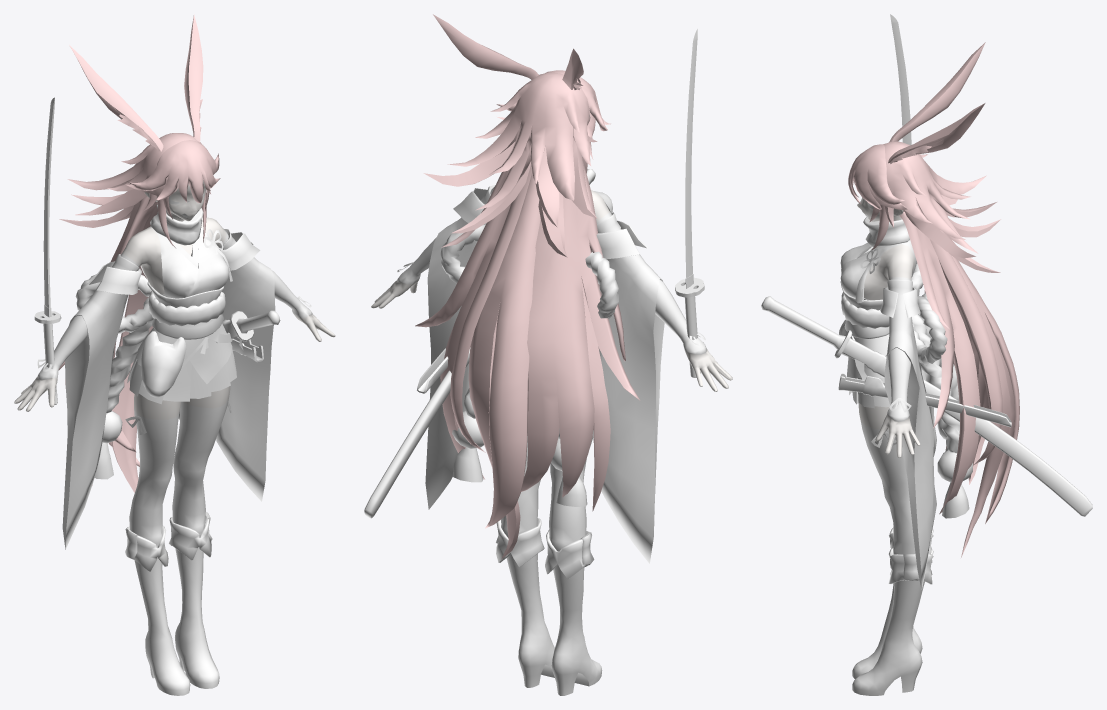
The model's file is 八重樱.obj.
The picture shows the model from 3 angles, left to right: view 1: azimuth 30°, elevation 25°; view 2: azimuth 150°, elevation 25°; view 3: azimuth 270°, elevation 25°; orthographic projection. The views are drawn at different scales.
Parts seen in each view (by area): view 1: Body01, Hair01, body_B01, WeaponL, Weapon01, Face01; view 2: Hair01, Body01, body_B01, Weapon01, WeaponL; view 3: Body01, Hair01, Weapon01, body_B01, WeaponL.
Part boxes in pixels (box(x1,y1,x2,y2)): Body01: box(14, 204, 335, 695); Hair01: box(58, 14, 220, 492); body_B01: box(75, 274, 179, 479); WeaponL: box(34, 97, 61, 404); Weapon01: box(222, 310, 280, 362); Face01: box(144, 180, 205, 221); Hair01: box(415, 14, 640, 558); Body01: box(371, 156, 732, 695); body_B01: box(440, 224, 618, 506); Weapon01: box(364, 169, 595, 518); WeaponL: box(675, 29, 704, 377); Body01: box(839, 215, 936, 695); Hair01: box(848, 42, 1019, 557); Weapon01: box(761, 296, 1092, 516); body_B01: box(911, 262, 972, 518); WeaponL: box(890, 14, 911, 145).
Bounding box in the file's own units: 6.81 × 12.68 × 6.24.
